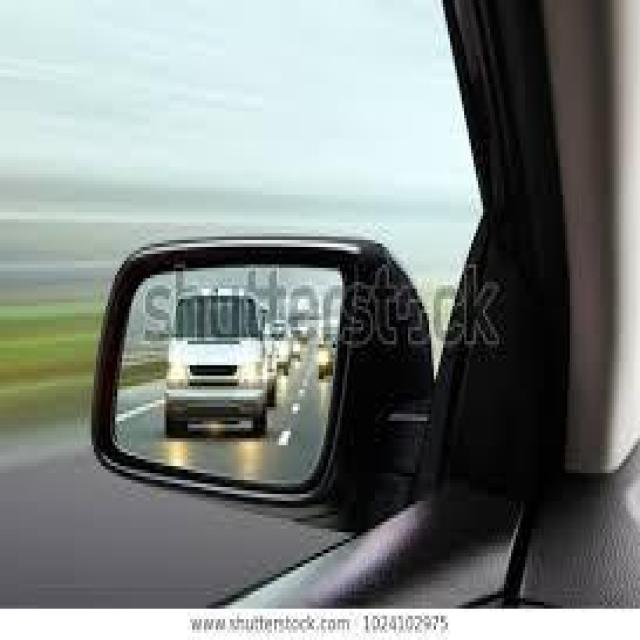other: (152, 337, 280, 476), (312, 330, 336, 381)
